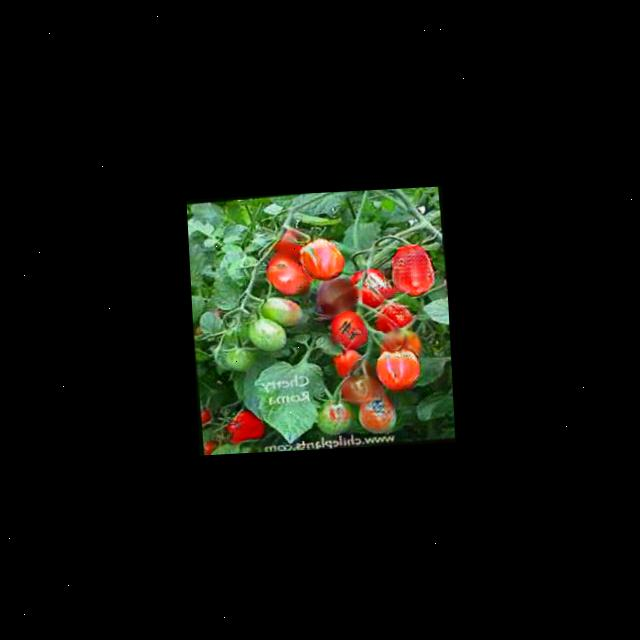tomato: (391, 243, 435, 295), (297, 236, 341, 282), (376, 348, 419, 392), (262, 255, 306, 297), (348, 264, 390, 306), (358, 395, 394, 433)
